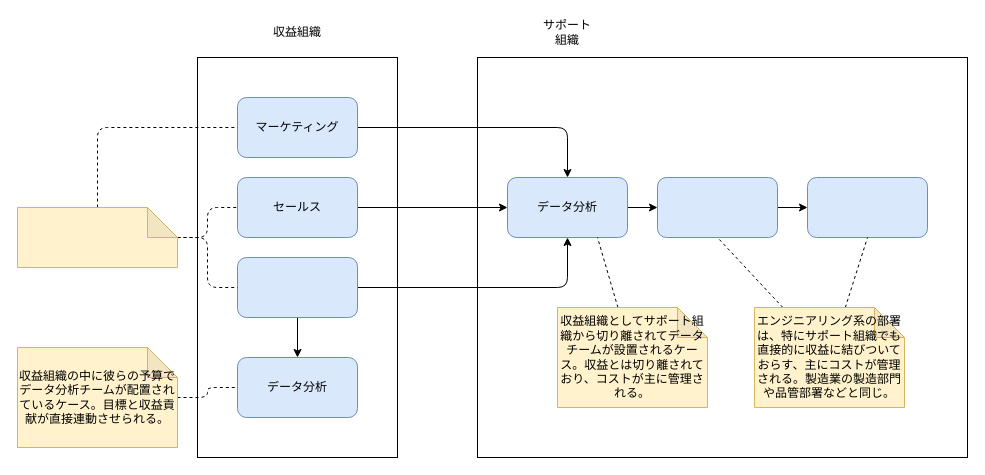
This 985x475 diagram has some shape labels left out. Here are the shapes that lost their labels. From the top down, the centre of each, then its label:
At [717,207]: "データ エンジニアリング".
At [867,207]: "データ 基盤構築・運用".
At [97,237]: "企業における収益の発生源".
At [297,287]: "カスタマーサクセス".
